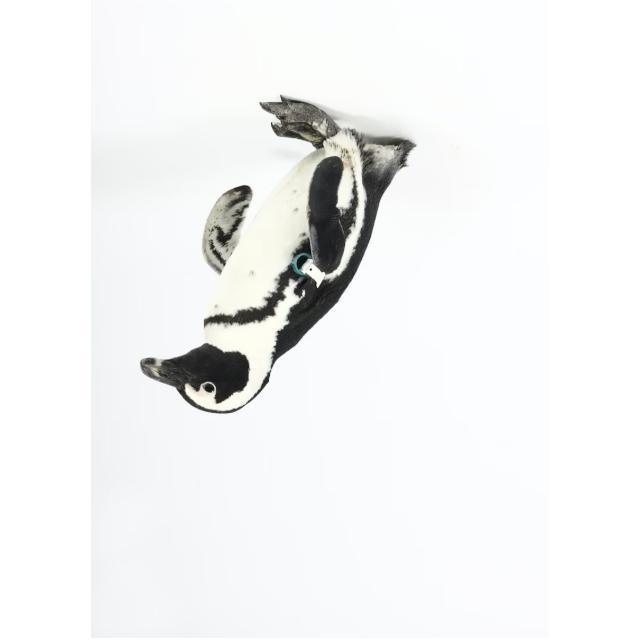penguin: (139, 93, 417, 413)
